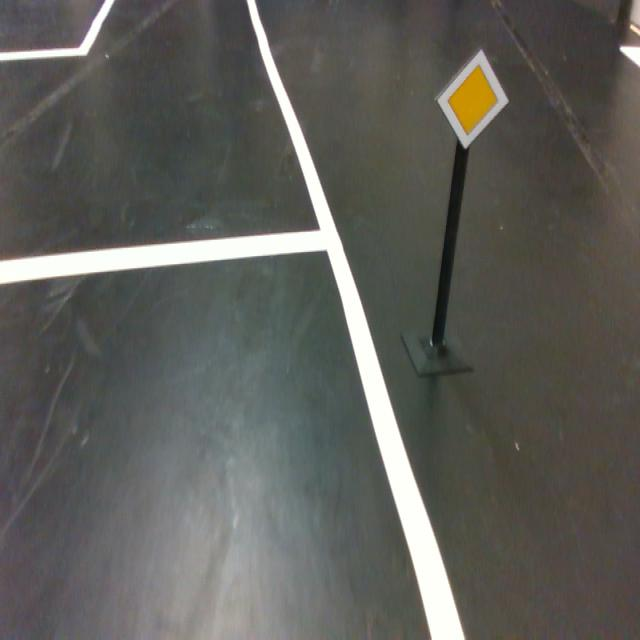priority-sign: (434, 48, 510, 151)
